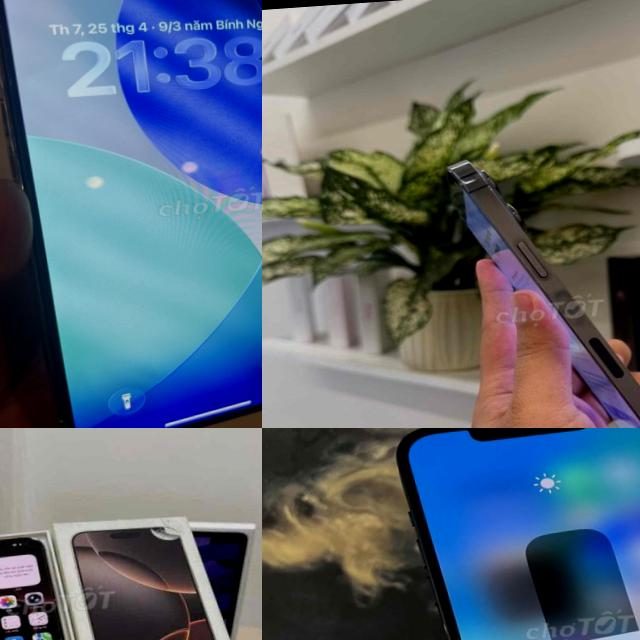gen_12_13: (0, 0, 262, 428), (440, 135, 640, 428), (390, 428, 640, 640)
